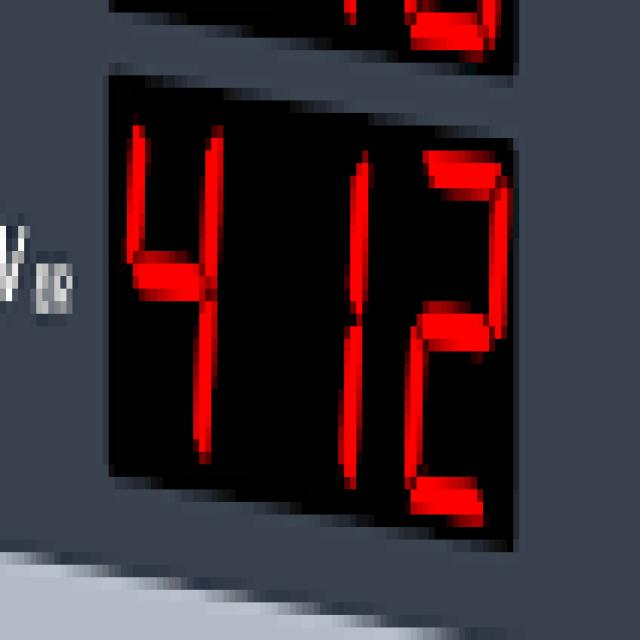1: (317, 110, 394, 487)
2: (408, 117, 520, 540)
4: (121, 95, 268, 488)
screen: (101, 62, 524, 563)
